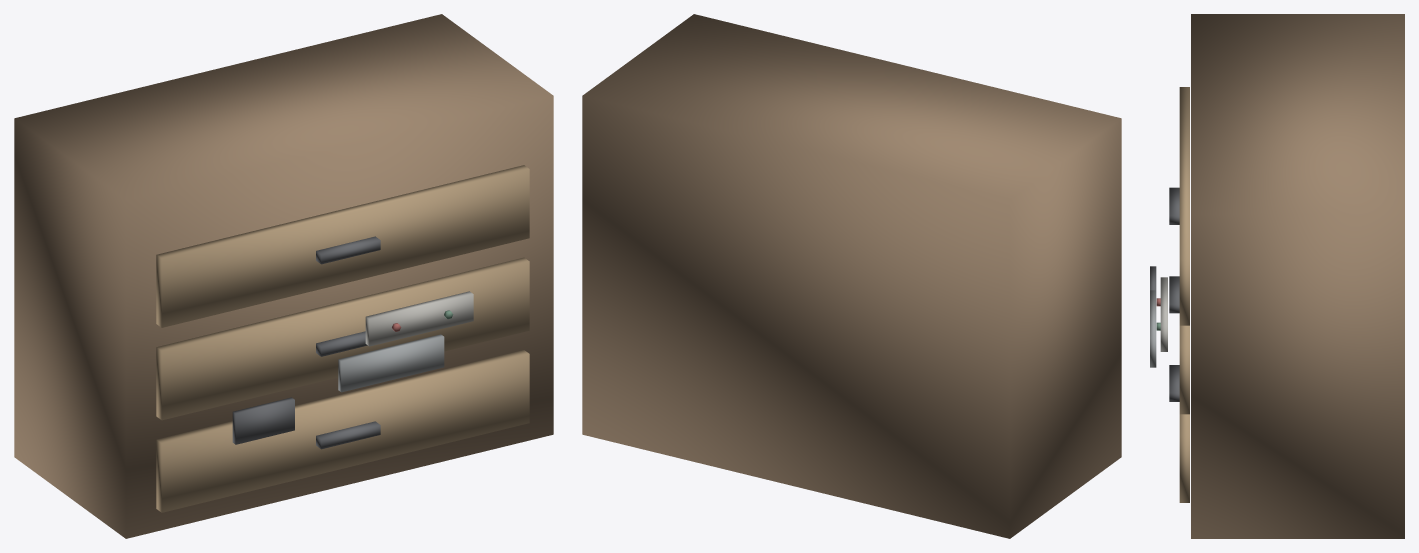
The model's file is dresser__weathered.glb.
3 renders of one model, left to right at view 1: azimuth 30°, elevation 25°; view 2: azimuth 150°, elevation 25°; view 3: azimuth 270°, elevation 25°, orthographic. The views are drawn at different scales.
Visible parts, largest first — view 1: world; view 2: world; view 3: world.
Part boxes in pixels (x1,y1,x2,y2): world: [14, 14, 553, 538]; world: [582, 14, 1121, 538]; world: [1150, 14, 1404, 538].
Bounding box in the file's own units: 1.15 × 0.8712 × 0.6195.
